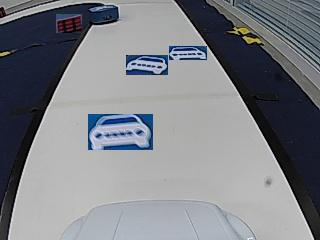prop: (90, 5, 118, 25)
